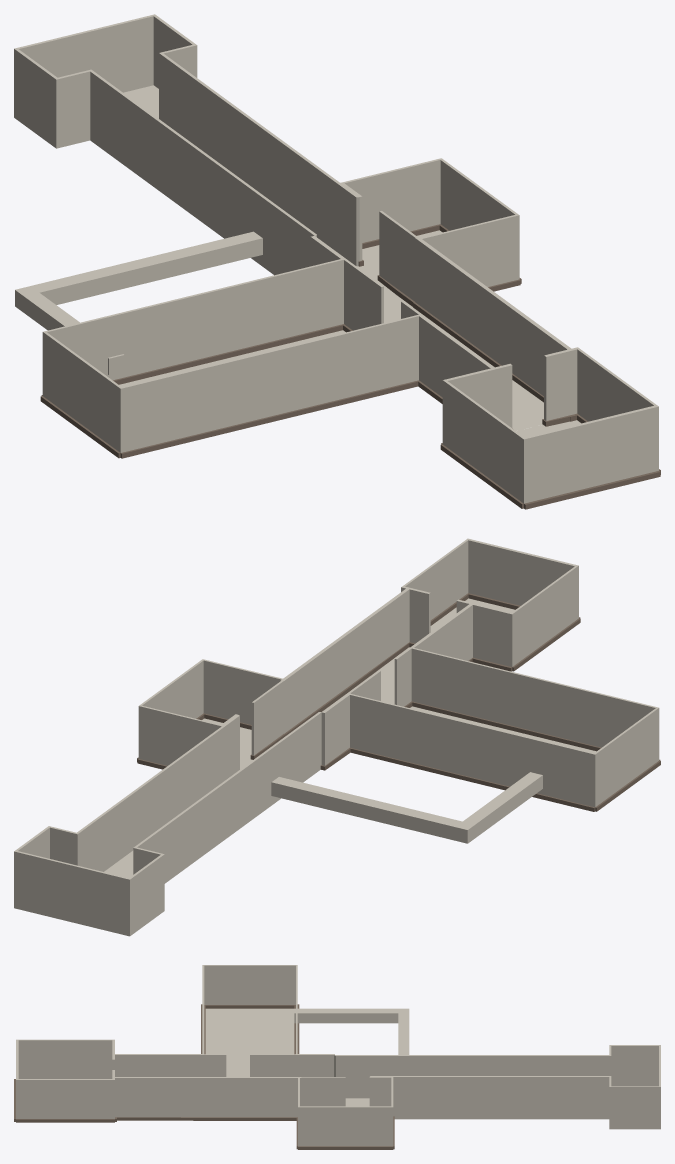
Rendered from tutorial.fbx.
The picture shows the model from 3 angles, top to bottom: view 1: azimuth 30°, elevation 25°; view 2: azimuth 150°, elevation 25°; view 3: azimuth 270°, elevation 25°; orthographic projection. The views are drawn at different scales.
Parts seen in each view (by area): view 1: polySurface468, polySurface467, polySurface446, polySurface483, polySurface485, polySurface487, pCube19, polySurface498, polySurface479, polySurface471, polySurface462, polySurface461 (+16 smaller); view 2: polySurface467, polySurface468, polySurface446, polySurface498, pCube19, polySurface487, polySurface485, polySurface483, polySurface479, polySurface471, polySurface499, polySurface461 (+15 smaller); view 3: polySurface446, polySurface487, polySurface507, polySurface480, polySurface465, polySurface471, polySurface479, polySurface485, polySurface499, polySurface493, pCube19, polySurface444 (+11 smaller).
Boxes of the visible parts, x1=… form: polySurface468: x1=120, y1=314, x2=419, y2=458; polySurface467: x1=41, y1=258, x2=344, y2=395; polySurface446: x1=413, y1=237, x2=576, y2=421; polySurface483: x1=524, y1=405, x2=660, y2=509; polySurface485: x1=108, y1=84, x2=238, y2=238; polySurface487: x1=178, y1=66, x2=310, y2=226; pCube19: x1=15, y1=231, x2=262, y2=375; polySurface498: x1=15, y1=14, x2=154, y2=92; polySurface479: x1=440, y1=380, x2=524, y2=508; polySurface471: x1=40, y1=332, x2=121, y2=458; polySurface462: x1=340, y1=158, x2=441, y2=248; polySurface461: x1=418, y1=214, x2=520, y2=291; polySurface467: x1=347, y1=693, x2=595, y2=811; polySurface468: x1=411, y1=648, x2=660, y2=760; polySurface446: x1=280, y1=588, x2=409, y2=735; polySurface498: x1=14, y1=851, x2=129, y2=936; pCube19: x1=271, y1=772, x2=542, y2=843; polySurface487: x1=92, y1=744, x2=198, y2=871; polySurface485: x1=149, y1=758, x2=258, y2=883; polySurface483: x1=467, y1=538, x2=580, y2=618; polySurface479: x1=512, y1=565, x2=580, y2=671; polySurface471: x1=594, y1=708, x2=660, y2=811; polySurface499: x1=255, y1=712, x2=321, y2=814; polySurface461: x1=203, y1=659, x2=283, y2=729; polySurface446: x1=115, y1=1077, x2=301, y2=1120; polySurface487: x1=428, y1=1076, x2=587, y2=1119; polySurface507: x1=205, y1=1008, x2=294, y2=1076; polySurface480: x1=16, y1=1079, x2=114, y2=1122; polySurface465: x1=298, y1=1106, x2=393, y2=1149; polySurface471: x1=203, y1=965, x2=296, y2=1008; polySurface479: x1=16, y1=1039, x2=114, y2=1078; polySurface485: x1=429, y1=1055, x2=587, y2=1075; polySurface499: x1=334, y1=1055, x2=431, y2=1098; polySurface493: x1=609, y1=1086, x2=660, y2=1129; pCube19: x1=294, y1=1008, x2=409, y2=1054; polySurface444: x1=115, y1=1054, x2=203, y2=1076.
Bounding box in the file's own units: 6.37 × 12.14 × 0.8732.
